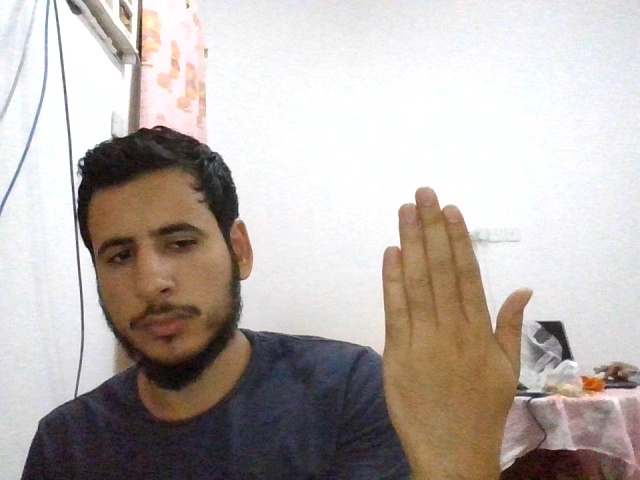Five: (383, 188, 534, 452)
